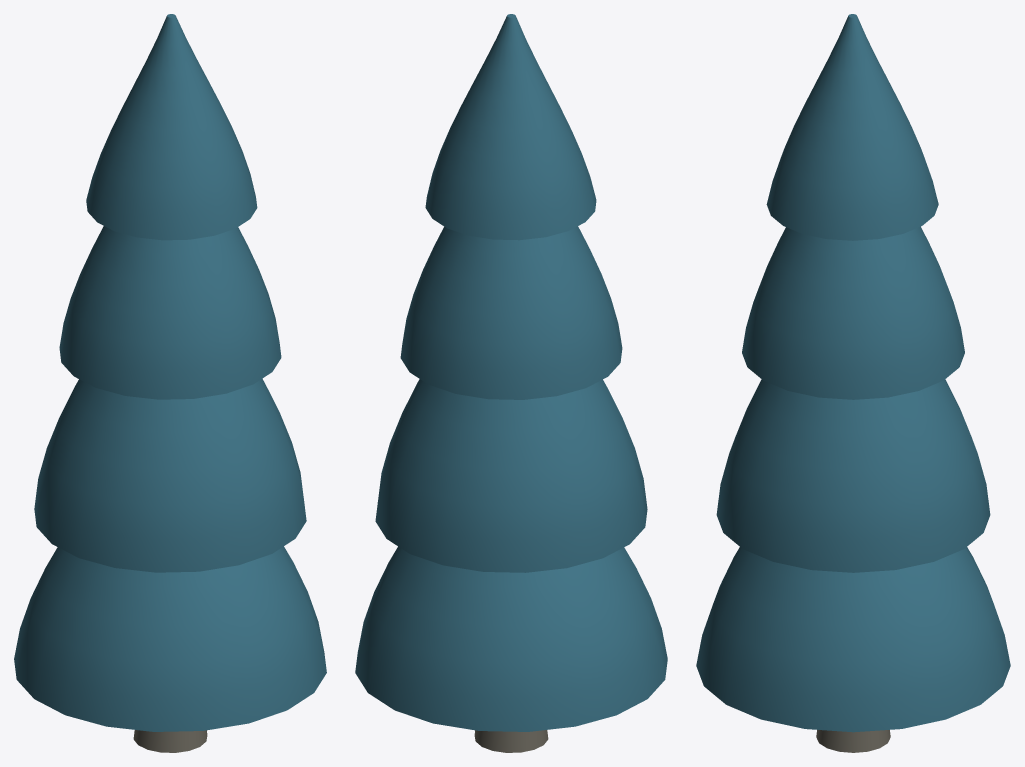
File: sapin_4.fbx
3 renders of one model, left to right at view 1: azimuth 30°, elevation 25°; view 2: azimuth 150°, elevation 25°; view 3: azimuth 270°, elevation 25°, orthographic.
Visible parts, largest first — view 1: Cone_3, Cone_4, Cone, Cone_2, Cylinder; view 2: Cone_3, Cone_4, Cone, Cone_2, Cylinder; view 3: Cone_3, Cone_4, Cone, Cone_2, Cylinder.
Boxes of the visible parts, box(x1,y1,x2,y2) form: Cone_3: box(14, 546, 326, 731); Cone_4: box(34, 378, 306, 572); Cone: box(59, 226, 281, 399); Cone_2: box(86, 14, 257, 240); Cylinder: box(133, 730, 207, 752); Cone_3: box(355, 546, 667, 731); Cone_4: box(375, 379, 647, 572); Cone: box(400, 226, 622, 399); Cone_2: box(425, 14, 596, 240); Cylinder: box(474, 730, 548, 752); Cone_3: box(696, 547, 1010, 732); Cone_4: box(716, 379, 990, 572); Cone: box(742, 226, 964, 399); Cone_2: box(766, 14, 938, 240); Cylinder: box(816, 730, 890, 752).
Bounding box in the file's own units: 285 × 722 × 285.
